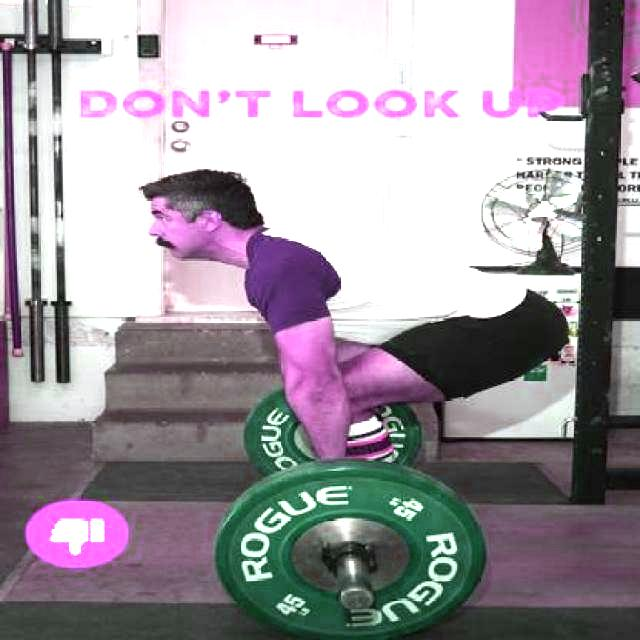barbell: (200, 450, 515, 640)
